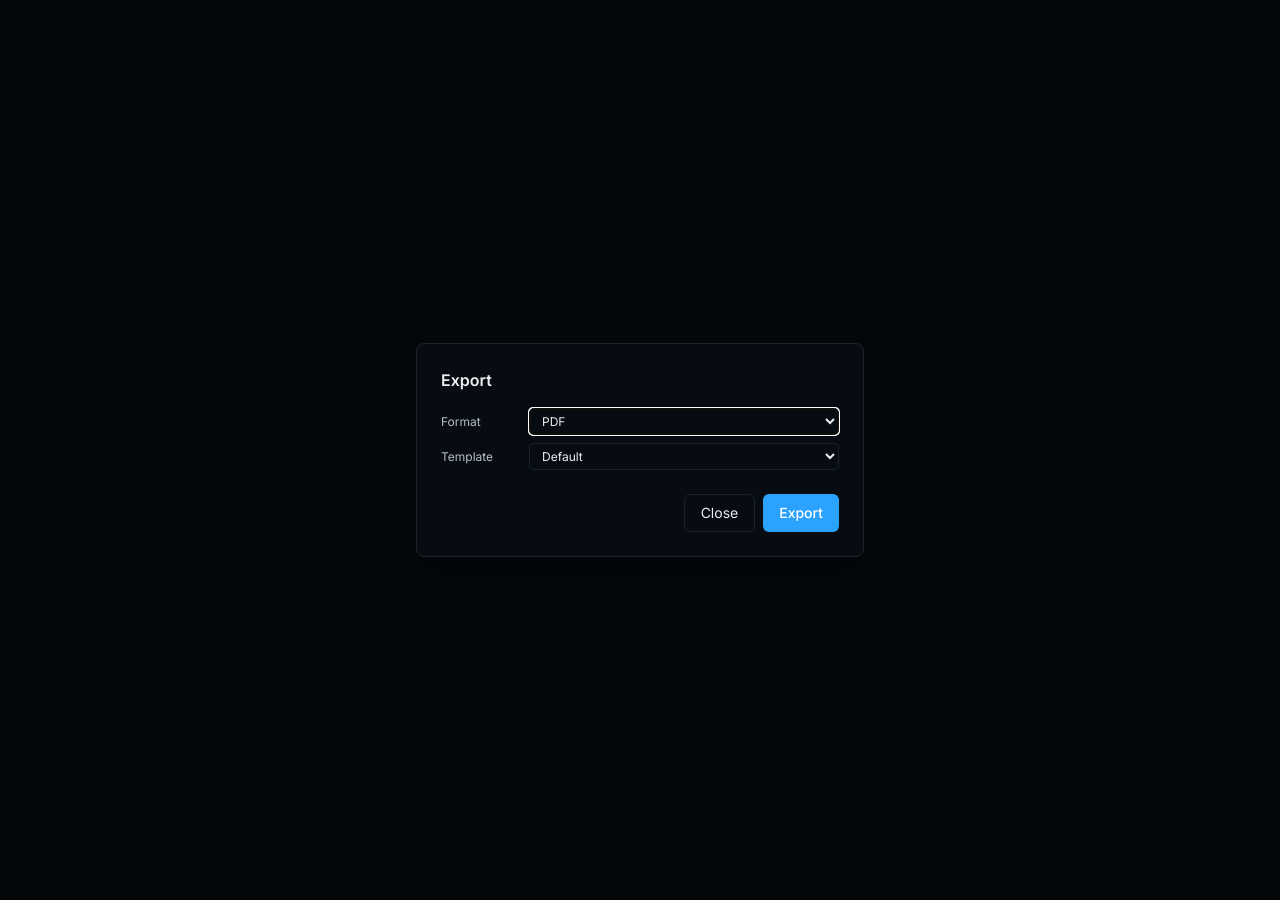
it: ExportDialog › runs the export and shows a success status
Click the button "Export". click: (801, 513)
box: top-left (763, 494), bottom-right (839, 532)
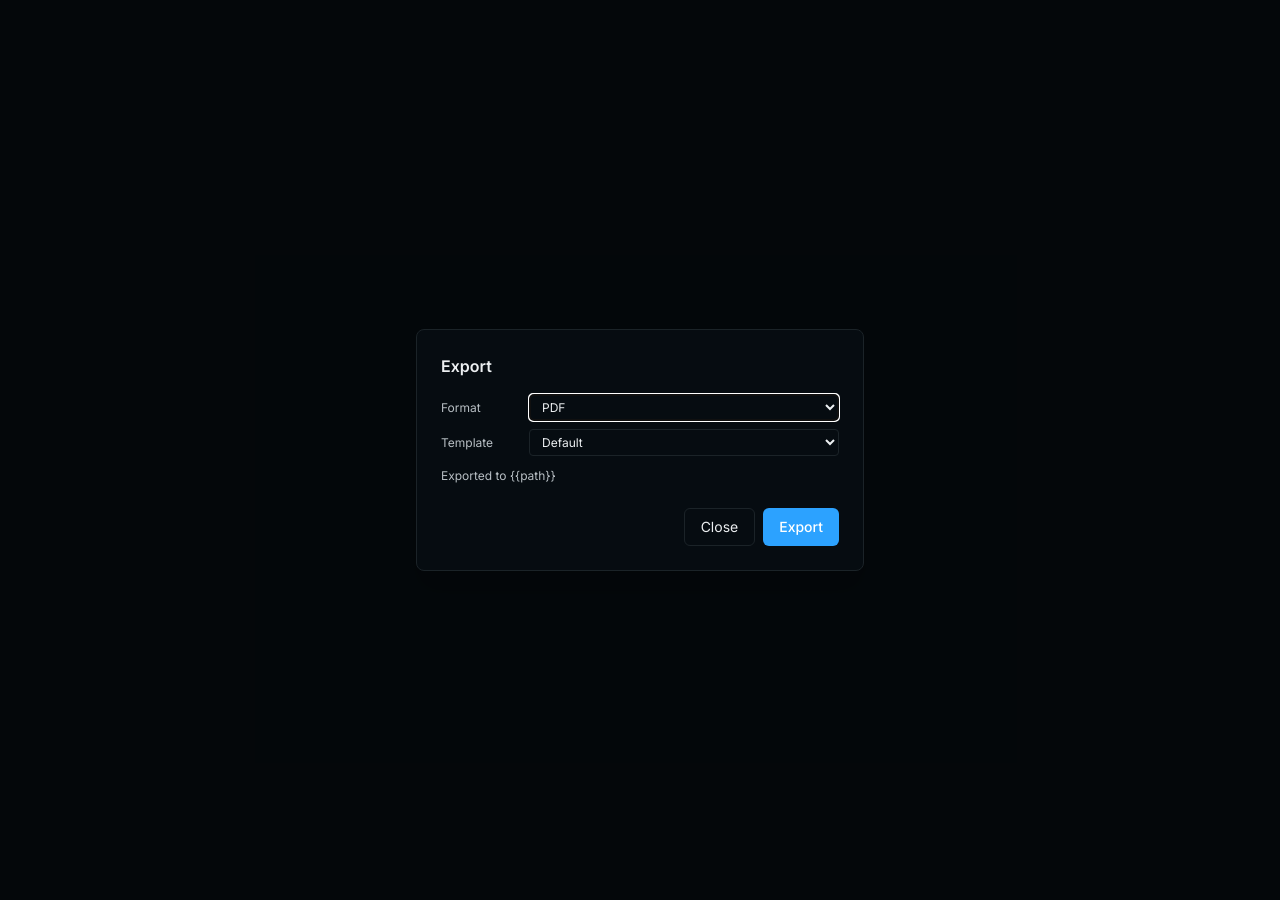
Expected: the text "Exported to {{path}}" is shown, top-left (441, 468), bottom-right (556, 483)
